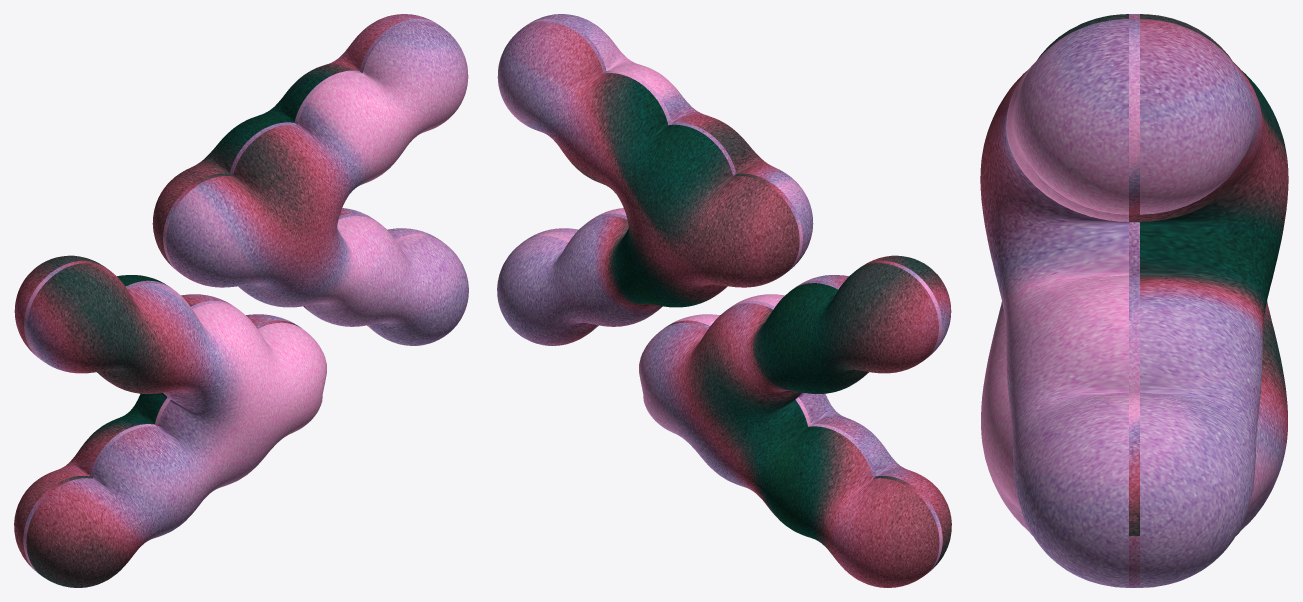
The picture shows the model from 3 angles, left to right: view 1: azimuth 30°, elevation 25°; view 2: azimuth 150°, elevation 25°; view 3: azimuth 270°, elevation 25°; orthographic projection. The views are drawn at different scales.
Parts seen in each view (by area): view 1: Buffer Object, Buffer Object0; view 2: Buffer Object, Buffer Object0; view 3: Buffer Object, Buffer Object0.
Boxes of the visible parts, x1,y1,x2,y2 form: Buffer Object: [152, 14, 468, 345]; Buffer Object0: [14, 255, 326, 587]; Buffer Object: [497, 14, 813, 345]; Buffer Object0: [639, 255, 951, 587]; Buffer Object: [980, 19, 1288, 587]; Buffer Object0: [981, 14, 1287, 535].
Bounding box in the file's own units: 0.3139 × 0.3306 × 0.1115.
Materials: 1 (1 with a texture image).
